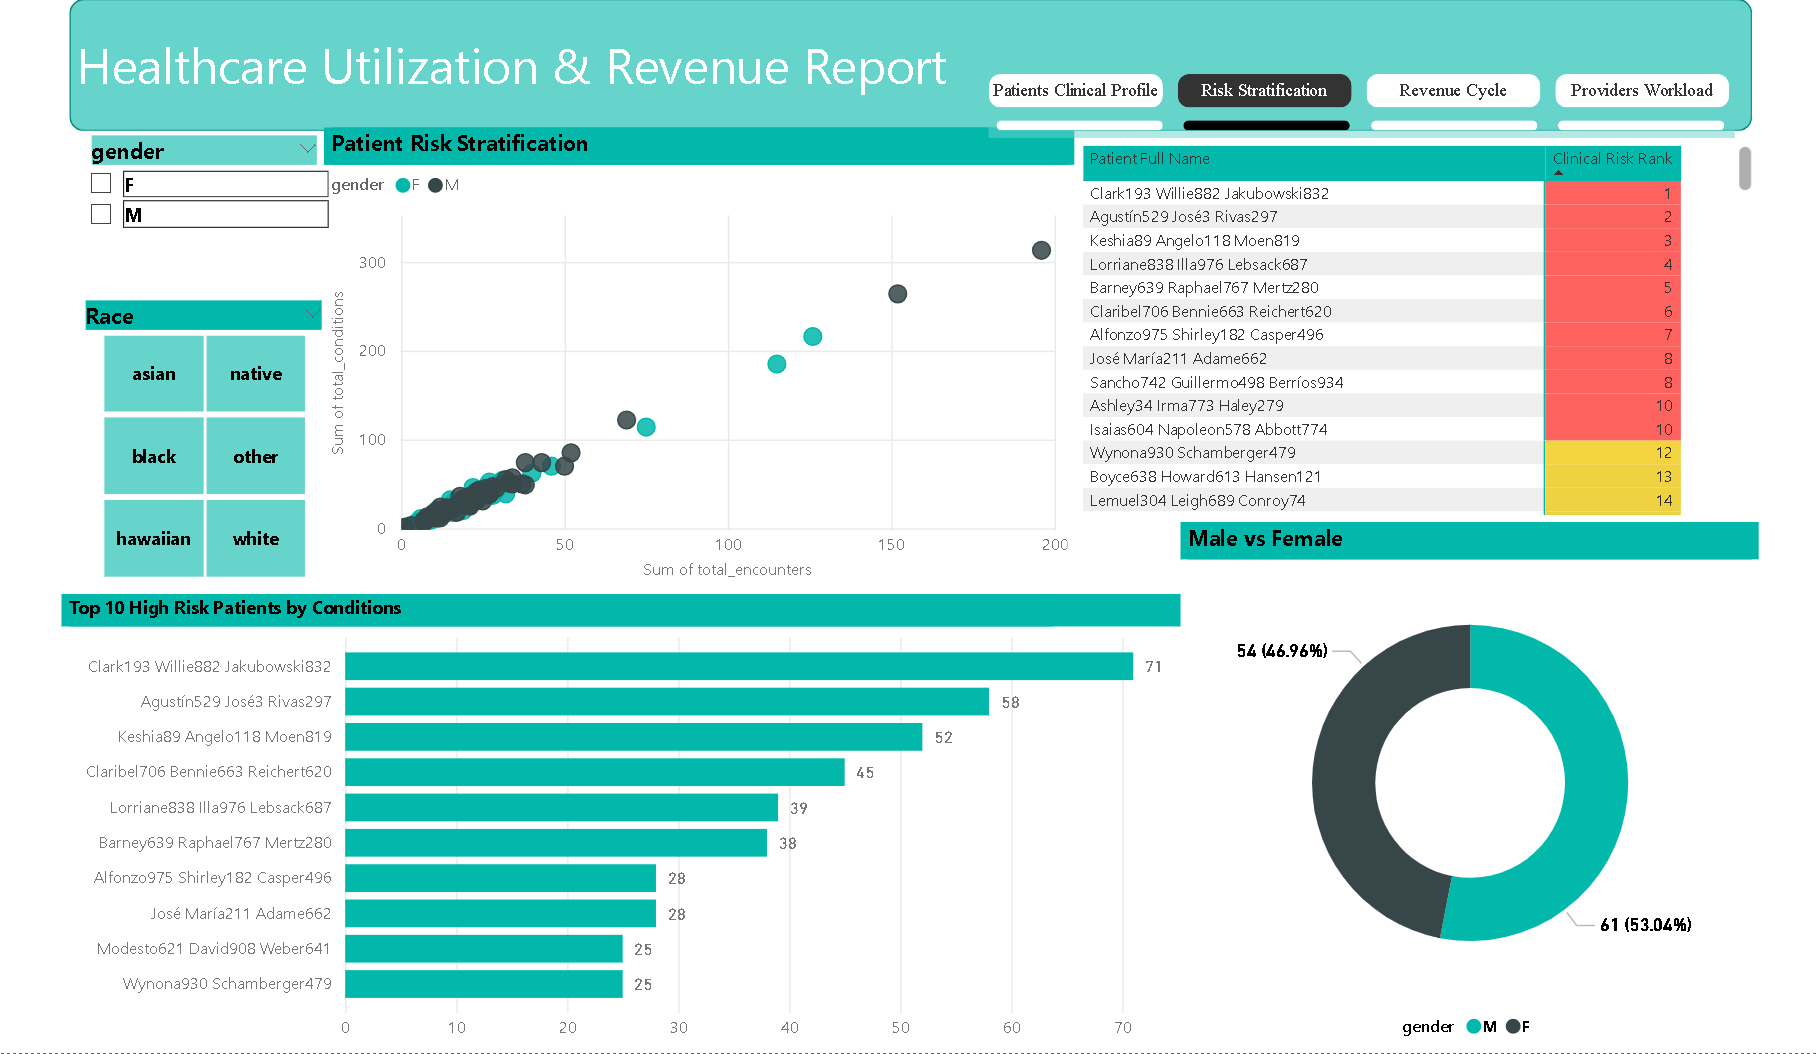

The dashboard page shown, as its layout file describes it:
{"tool":"powerbi","page":{"name":"Risk Stratification","canvas":[1280,720],"ordinal":1},"visuals":[{"type":"shape","box":[43.3,0,1151,99.8],"z":0},{"type":"scatterChart","title":"Patient Risk Stratification","fields":{"Category":["Patient_Coditions_bridge.patient_full_name"],"Series":["Patient_Coditions_bridge.gender"],"X":["Sum(vw_patient_clinical_risk.total_encounters)"],"Y":["Sum(vw_patient_clinical_risk.total_conditions)"]},"box":[221.7,92.7,509,310.4],"z":1000},{"type":"pivotTable","fields":{"Rows":["Patient_Coditions_bridge.patient_full_name"],"Values":["Sum(vw_patient_clinical_risk.clinical_risk_rank)"]},"box":[730.7,99.8,463.6,260],"z":2000},{"type":"barChart","title":"Top 10 High Risk Patients by Conditions","fields":{"Category":["Patient_Coditions_bridge.patient_full_name"],"Y":["CountNonNull(Patient_Coditions_bridge.all_conditions)"]},"box":[43.3,409.2,758.9,310.4],"z":3000},{"type":"donutChart","title":"Male vs Female","fields":{"Category":["vw_patient_summary.gender"],"Y":["CountNonNull(vw_patient_summary.patient_id)"]},"box":[802.3,359.8,392.1,359.8],"z":4000},{"type":"slicer","fields":{"Values":["Patient_Coditions_bridge.race"]},"box":[47.1,204.2,186.1,199.4],"z":5000},{"type":"slicer","fields":{"Values":["Patient_Coditions_bridge.gender"]},"box":[50.7,93,178.8,111.2],"z":6000},{"type":"group","id":"g1","title":"Sub Navigation","box":[667.6,50.9,515.8,48.4],"z":6001},{"type":"pageNavigator","box":[672.3,82,506.3,17.3],"z":14000,"group":"g1"},{"type":"pageNavigator","box":[667.6,50.9,515.8,33.4],"z":15000,"group":"g1"}]}

Visuals, with their boxes on the page's 1280x720 design canvas (x1, y1, x2, y2). These are canvas units, not pixel positions in the 1816x1054 screenshot, which may show the page scaled, cropped or inside an application window:
shape: [43,0,1194,100]
"Patient Risk Stratification" scatterChart: [222,93,731,403]
pivotTable - Patient_Coditions_bridge.patient_full_name x Sum(vw_patient_clinical_risk.clinical_risk_rank): [731,100,1194,360]
"Top 10 High Risk Patients by Conditions" barChart: [43,409,802,720]
"Male vs Female" donutChart: [802,360,1194,720]
slicer - Patient_Coditions_bridge.race: [47,204,233,404]
slicer - Patient_Coditions_bridge.gender: [51,93,230,204]
"Sub Navigation" group: [668,51,1183,99]
pageNavigator: [672,82,1179,99]
pageNavigator: [668,51,1183,84]
